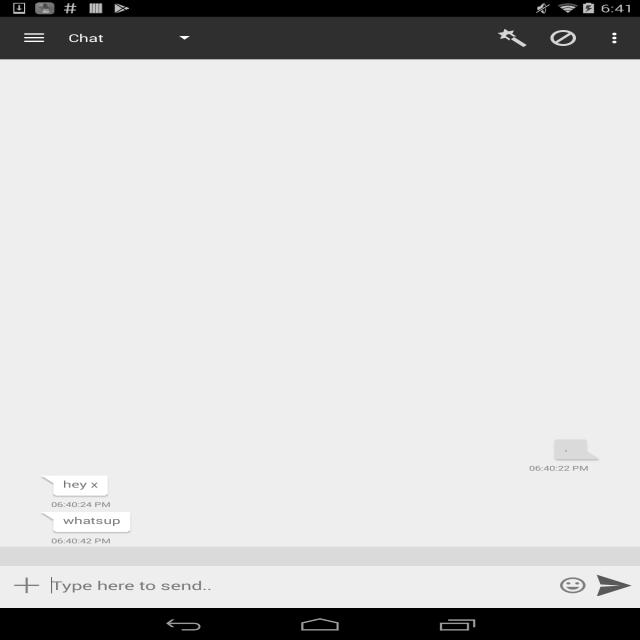EditText: (51, 577, 548, 593)
ImageButton: (0, 19, 60, 57), (595, 575, 634, 596), (10, 575, 44, 596), (556, 575, 590, 596)
ImageView: (589, 22, 640, 54)
Spinner: (60, 21, 195, 55)
TextView: (34, 510, 137, 536), (34, 474, 114, 499), (60, 21, 112, 55), (487, 22, 538, 54), (538, 22, 588, 54), (548, 438, 606, 463), (529, 463, 589, 473), (51, 500, 111, 509), (51, 536, 111, 545)
